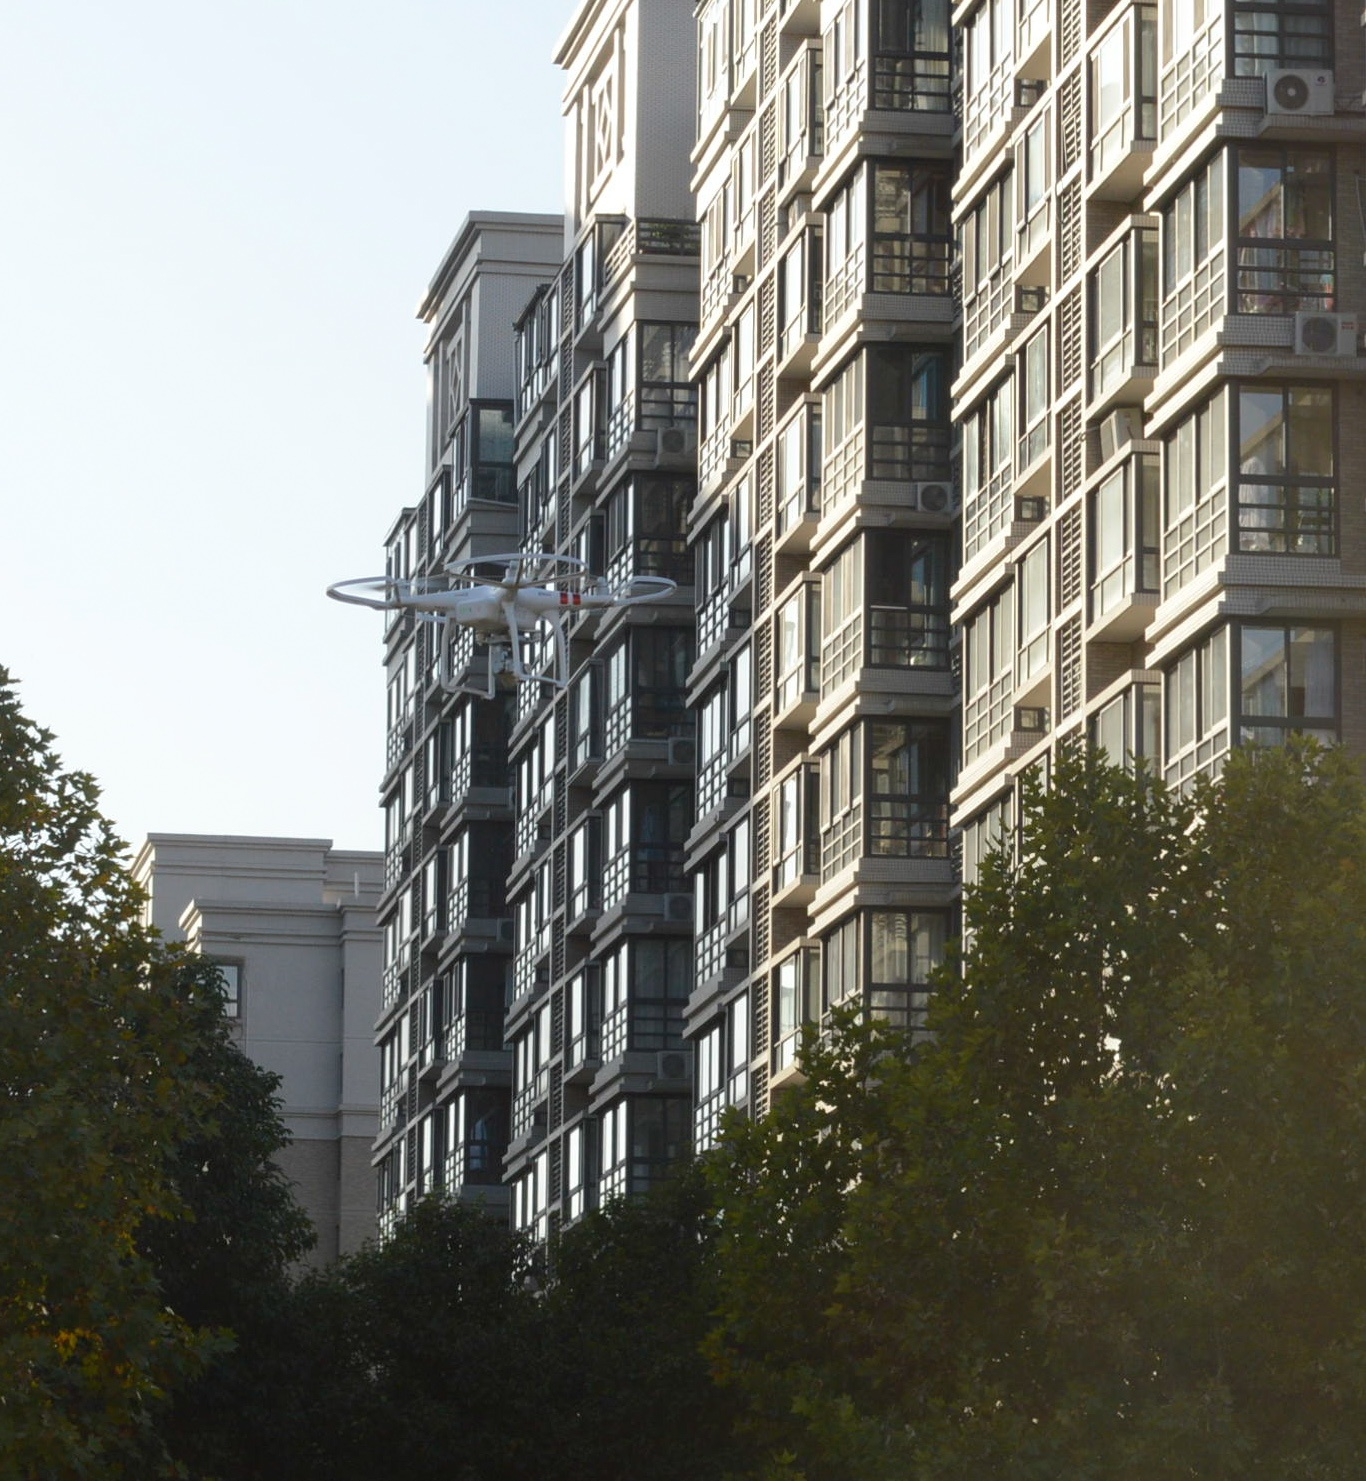DJI: (328, 553, 671, 699)
